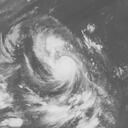cyclone: (26, 24, 102, 125)
